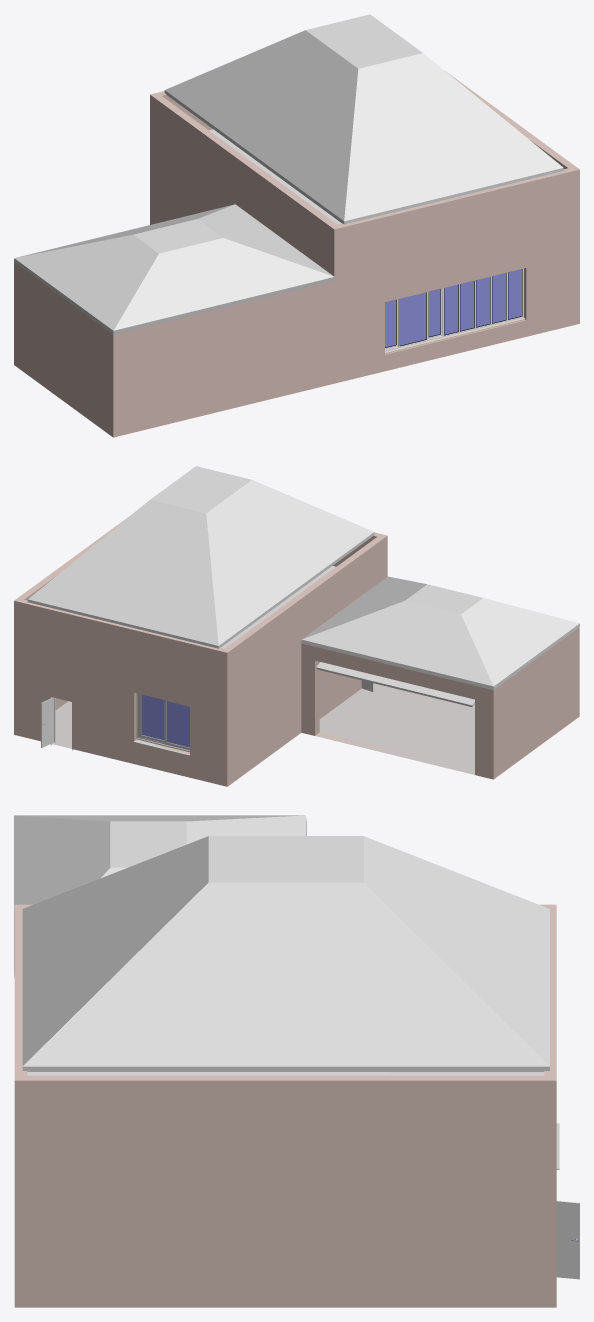
File: HouseWithGarage.fbx
3 views of the same model, one above another, from view 1: azimuth 30°, elevation 25°; view 2: azimuth 150°, elevation 25°; view 3: azimuth 270°, elevation 25° (orthographic). The views are drawn at different scales.
Parts seen in each view (by area): view 1: Room, Cube, Room.001, Ceiling, Window, Ceiling.001; view 2: Room, Cube, Ceiling, Room.001, Floor, Plane, Window.L, Window.R, Floor.001, Door.001, Ceiling.001; view 3: Room, Cube, Ceiling, Ceiling.001, Door.001.
Part boxes in pixels (x1,y1,x2,y2): Room: [150, 71, 579, 383]; Cube: [164, 14, 563, 224]; Room.001: [14, 262, 334, 437]; Ceiling: [14, 204, 334, 334]; Window: [385, 268, 525, 353]; Ceiling.001: [209, 129, 341, 224]; Room: [14, 515, 387, 786]; Cube: [27, 466, 374, 648]; Ceiling: [301, 576, 579, 690]; Room.001: [301, 627, 579, 779]; Floor: [315, 683, 474, 774]; Plane: [316, 662, 474, 706]; Window.L: [164, 700, 189, 750]; Window.R: [139, 694, 164, 742]; Floor.001: [51, 701, 71, 748]; Door.001: [41, 697, 55, 747]; Ceiling.001: [221, 566, 335, 648]; Room: [14, 904, 556, 1307]; Cube: [22, 836, 549, 1071]; Ceiling: [14, 815, 306, 977]; Ceiling.001: [27, 1072, 544, 1075]; Door.001: [556, 1201, 579, 1279].
Bounding box in the file's own units: 1900 × 962 × 1357.
